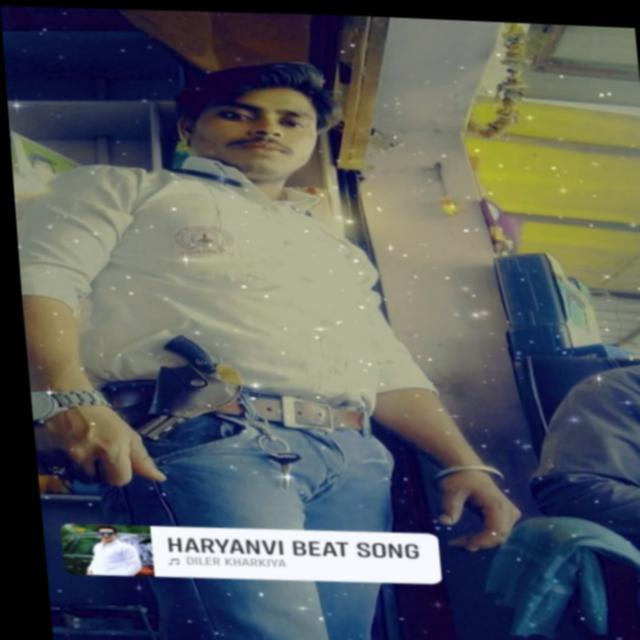weapon: (118, 328, 243, 450)
